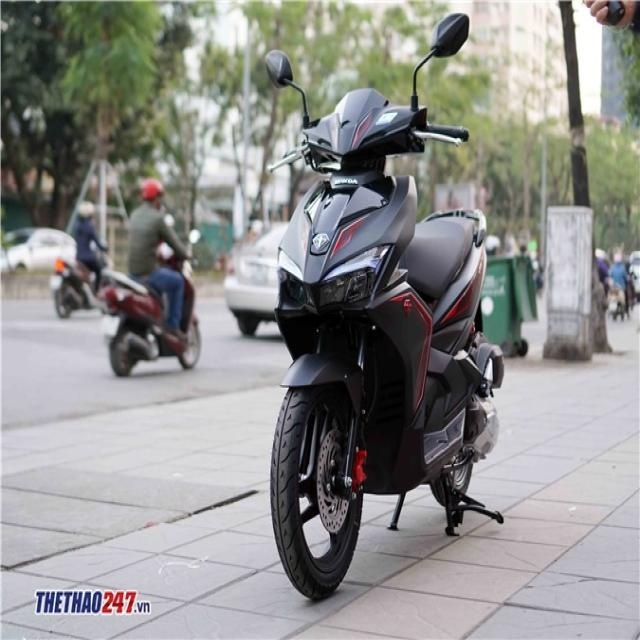Motorcycle: (259, 8, 514, 603)
